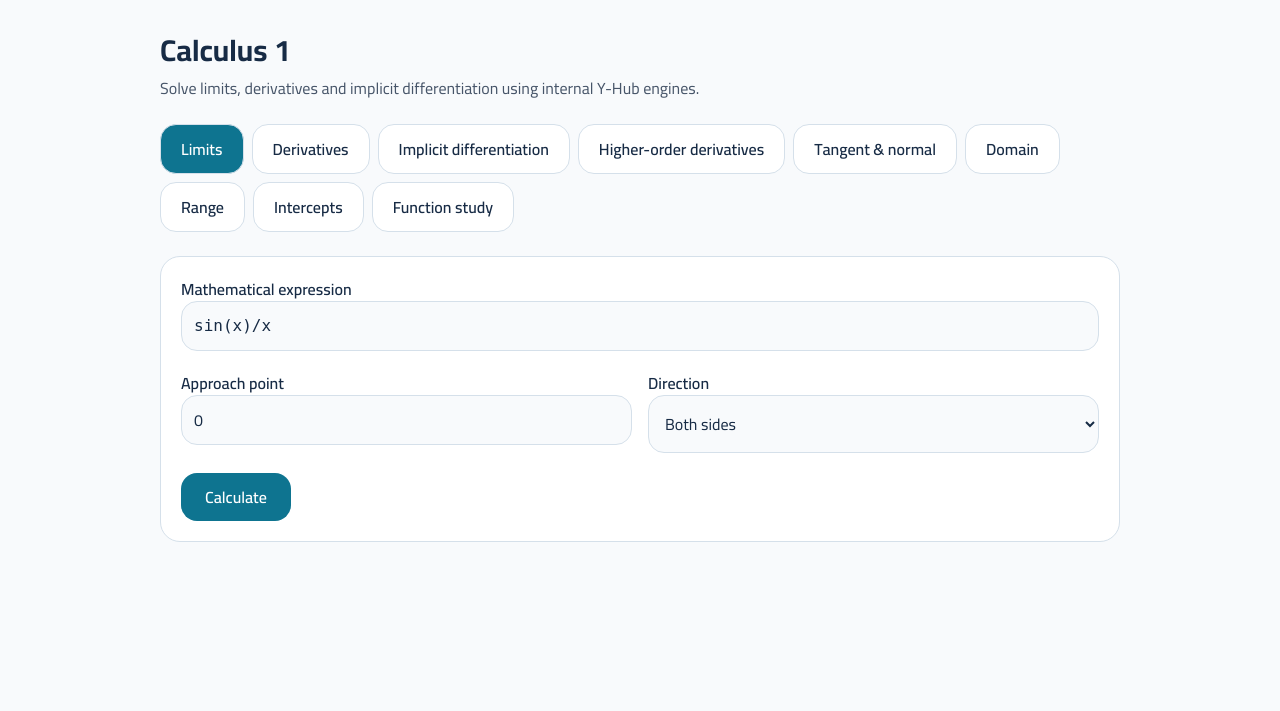
Test: Calculus 1 intercepts UI › shows no real roots when discriminant is negative
Click the tab "Intercepts": coordinates (308, 207) [253,182,364,232]
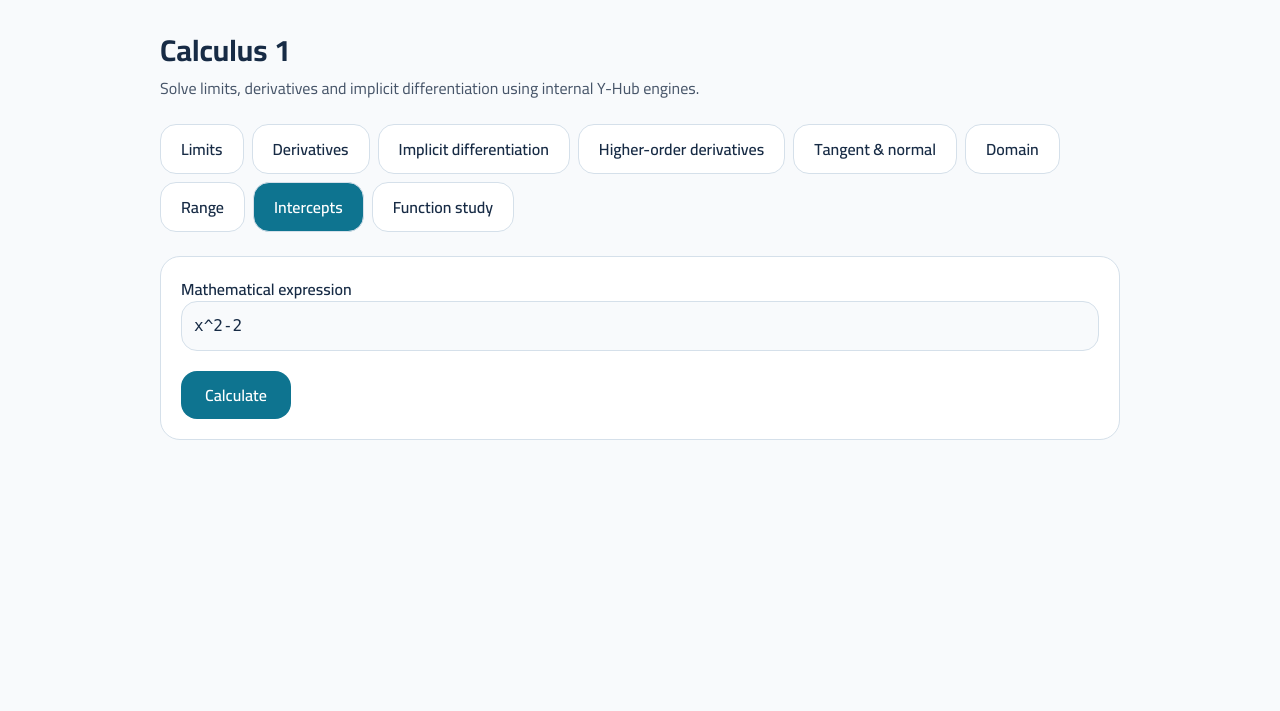
In the field labelled "Mathematical expression": coordinates (640, 326) [181,301,1099,351], type "x^2+1"
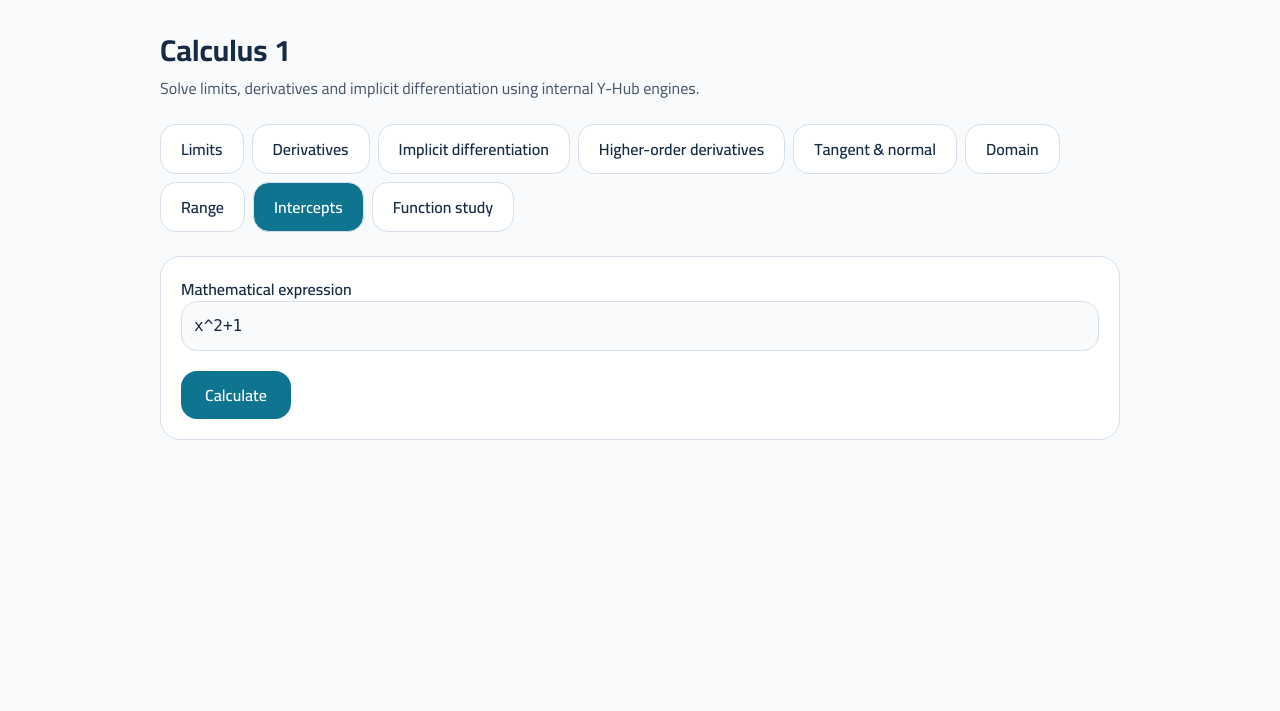
Click the button "Calculate": coordinates (236, 395) [181,371,291,419]
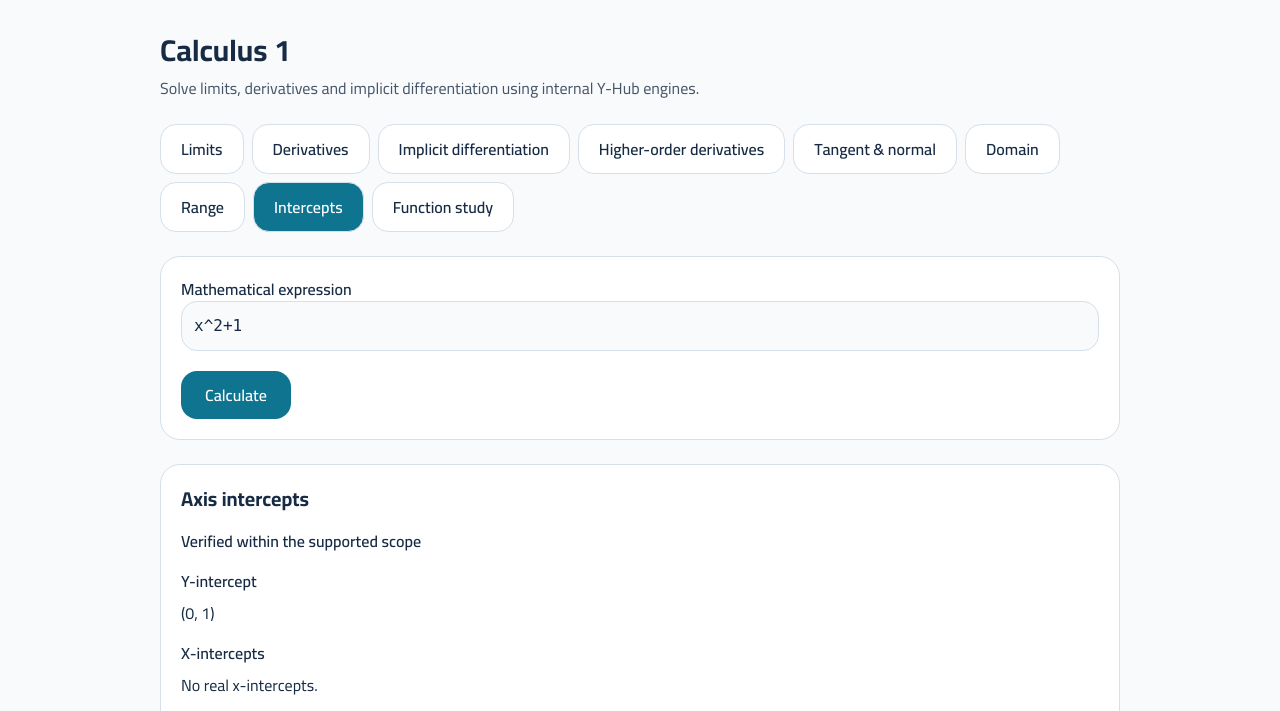
Expected: the text "No real x-intercepts." is shown, [181,670,318,700]
Expected: the text with test id "y-intercept" reads "(0, 1)", [181,598,215,628]
